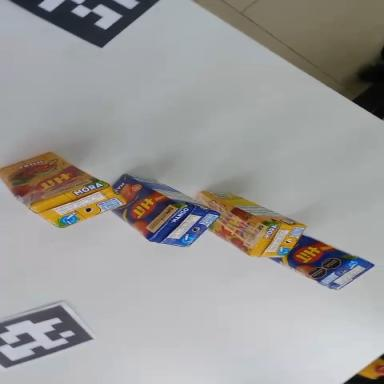HIT-MANGO: (98, 163, 221, 265), (269, 227, 375, 301)
HIT-MORA: (0, 134, 129, 250), (184, 181, 306, 271)
cara_F: (0, 138, 99, 213), (99, 172, 183, 246), (185, 191, 270, 258), (273, 228, 356, 292)
